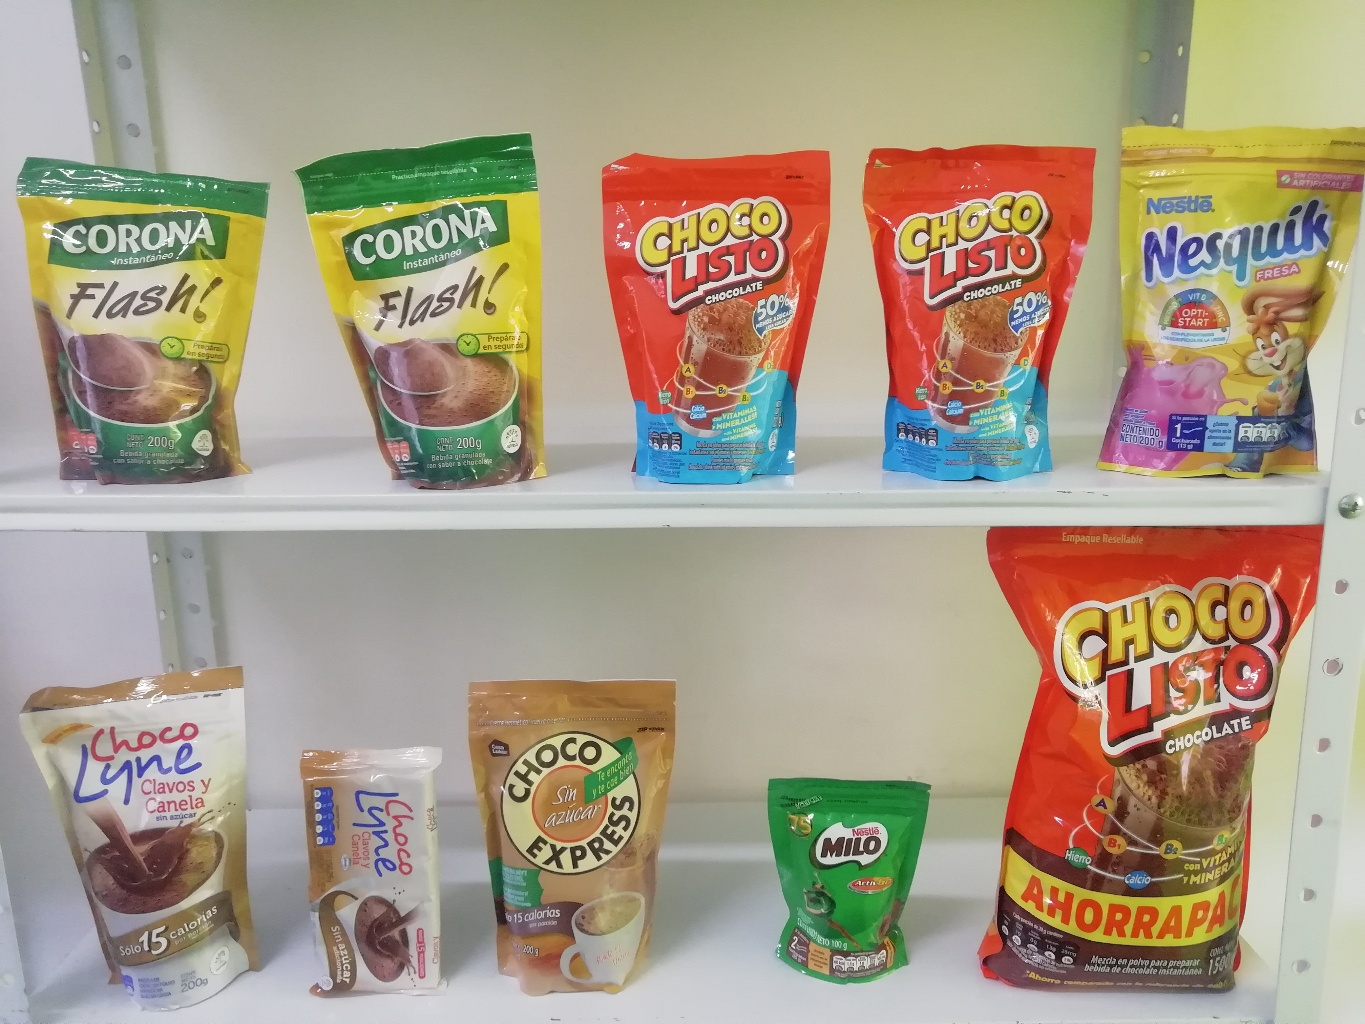COL0170103DYP1,500: (969, 503, 1335, 1015)
COL0170104DYP20000: (588, 143, 831, 480)
COL0170203DYP10000: (760, 767, 932, 998)
